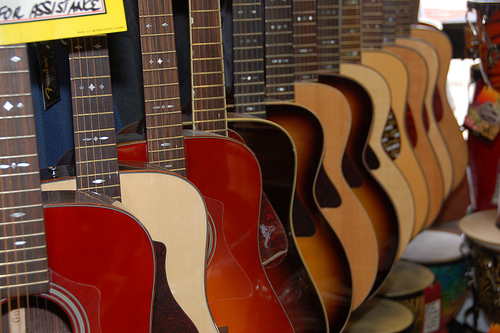guitar: (105, 1, 296, 333), (43, 40, 219, 330), (187, 1, 329, 333), (1, 46, 157, 333)
